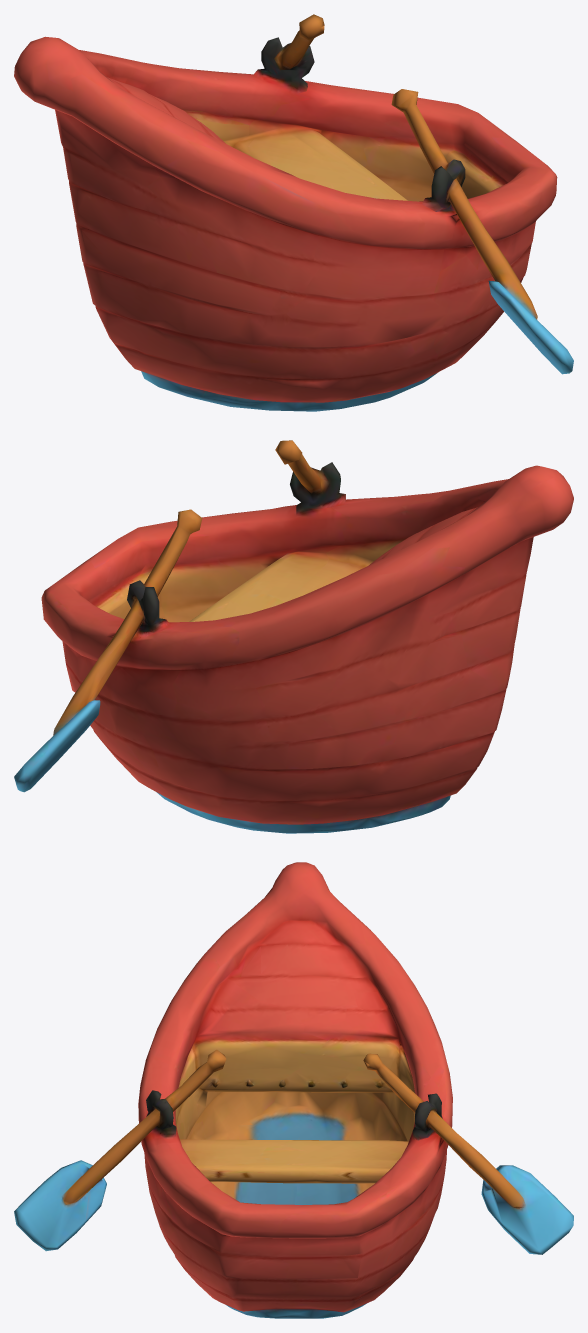
Rendered from boat.glb.
3 views of the same model, one above another, from view 1: azimuth 30°, elevation 25°; view 2: azimuth 150°, elevation 25°; view 3: azimuth 270°, elevation 25° (orthographic). The views are drawn at different scales.
Parts seen in each view (by area): view 1: tripo_node_752fe5de-e7ed-4e97-9b70-6ab351e1a8c7; view 2: tripo_node_752fe5de-e7ed-4e97-9b70-6ab351e1a8c7; view 3: tripo_node_752fe5de-e7ed-4e97-9b70-6ab351e1a8c7.
Part boxes in pixels (bbox=[...]): tripo_node_752fe5de-e7ed-4e97-9b70-6ab351e1a8c7: bbox=[14, 14, 573, 411]; tripo_node_752fe5de-e7ed-4e97-9b70-6ab351e1a8c7: bbox=[14, 440, 573, 833]; tripo_node_752fe5de-e7ed-4e97-9b70-6ab351e1a8c7: bbox=[14, 862, 573, 1318].
Bounding box in the file's own units: 0.8031 × 0.6 × 0.9792.
1 material, 1 textured.
